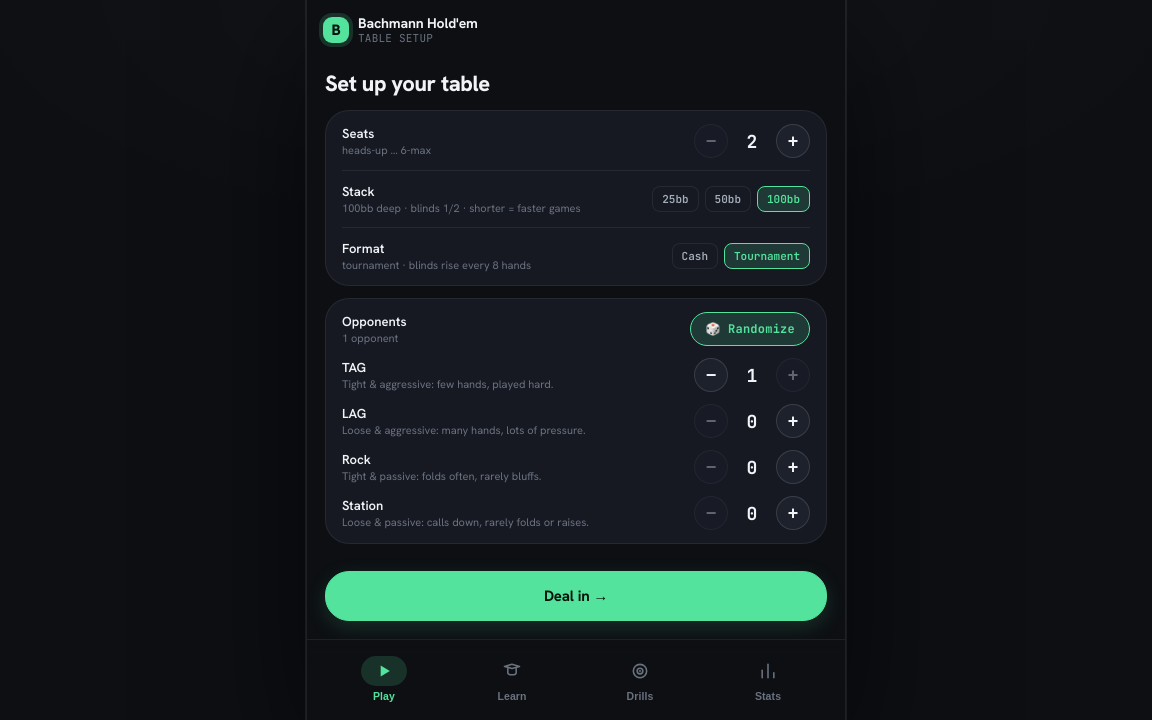
Test: App — setup → deal › opens on the setup screen and deals the first hand on the CTA
The image size is (1152, 720).
Expected: the element with test id "setup" that starts with "Bachmann Hold'em" is shown, [306,0,846,719]
Expected: the text with test id "seat-count" reads "2", [747,130,757,152]
Click the button "Deal in →" at (576, 596), box [325,571,827,621]
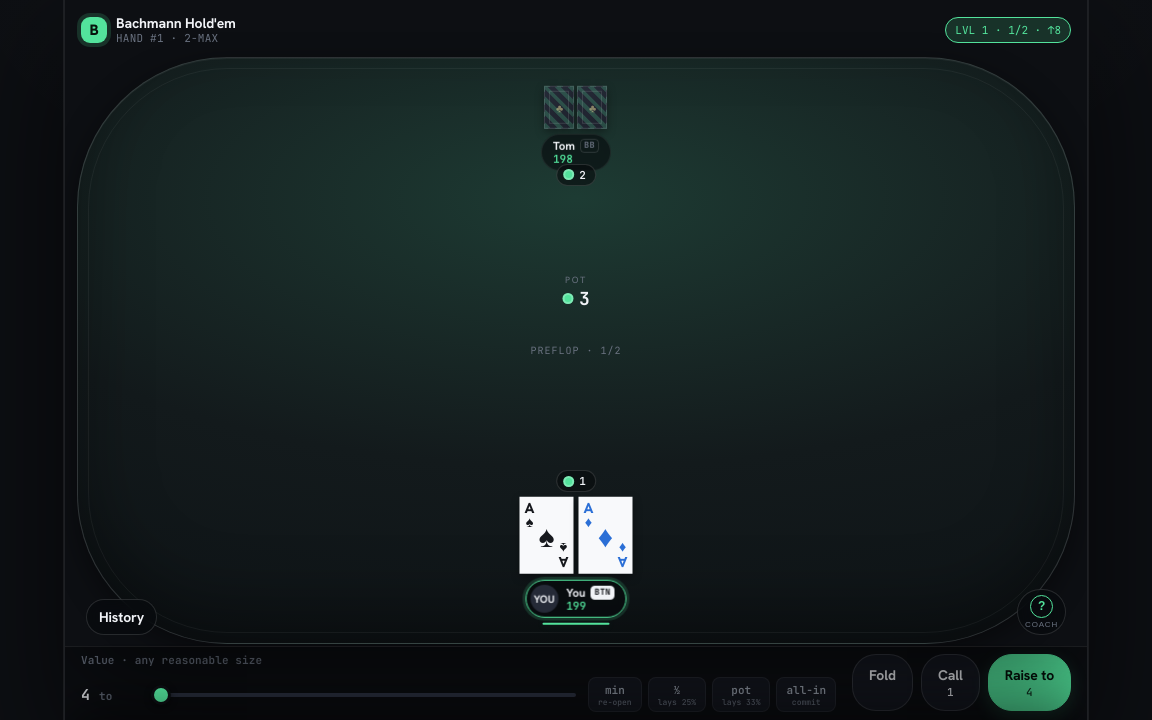
Expected: the text "You" is shown, [566,586,586,599]
